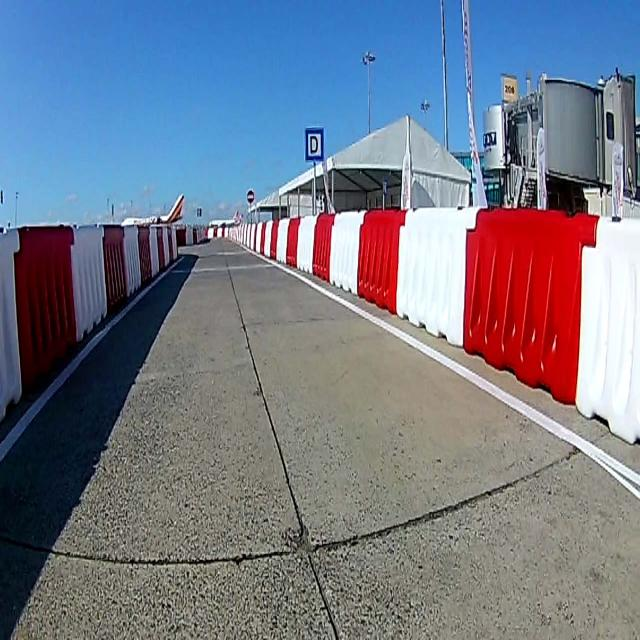durak: (304, 126, 324, 163)
girisyok: (246, 188, 256, 204)
